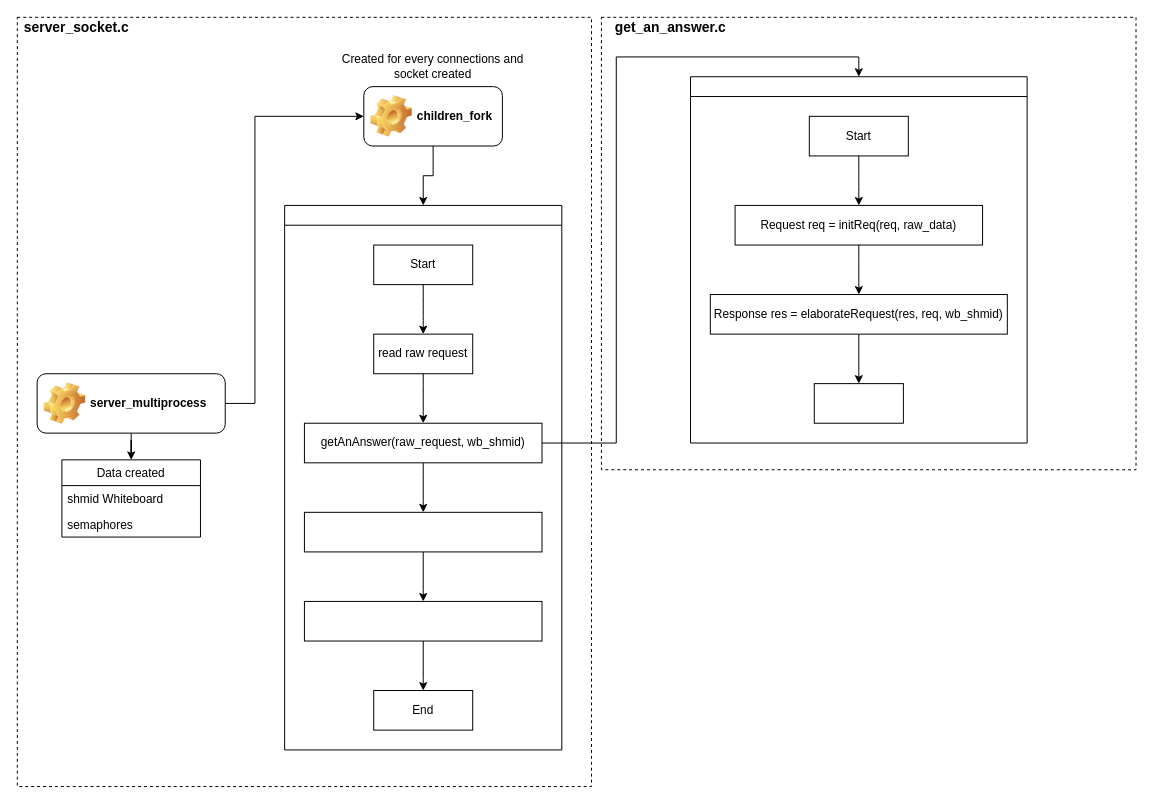
Image size: 1153x804. Some labels were removed from this diagram. The shapes that lost their labels are listed below. From the top down, each one's box as (x1, y1, x2, y2) in pixels, then its label:
(690, 76, 1027, 443): getAnAnswer(raw_data, wb_shmid)
(813, 383, 903, 423): return res
(284, 204, 562, 750): Vertical Flow Layout
(303, 511, 542, 552): send(socket, res, strlen(res), 0)
(303, 600, 542, 641): shutdown(socket, SHUT_RDWR) close(socket)
